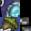mirror: (0, 0, 20, 17)
slime: (20, 0, 31, 17)
